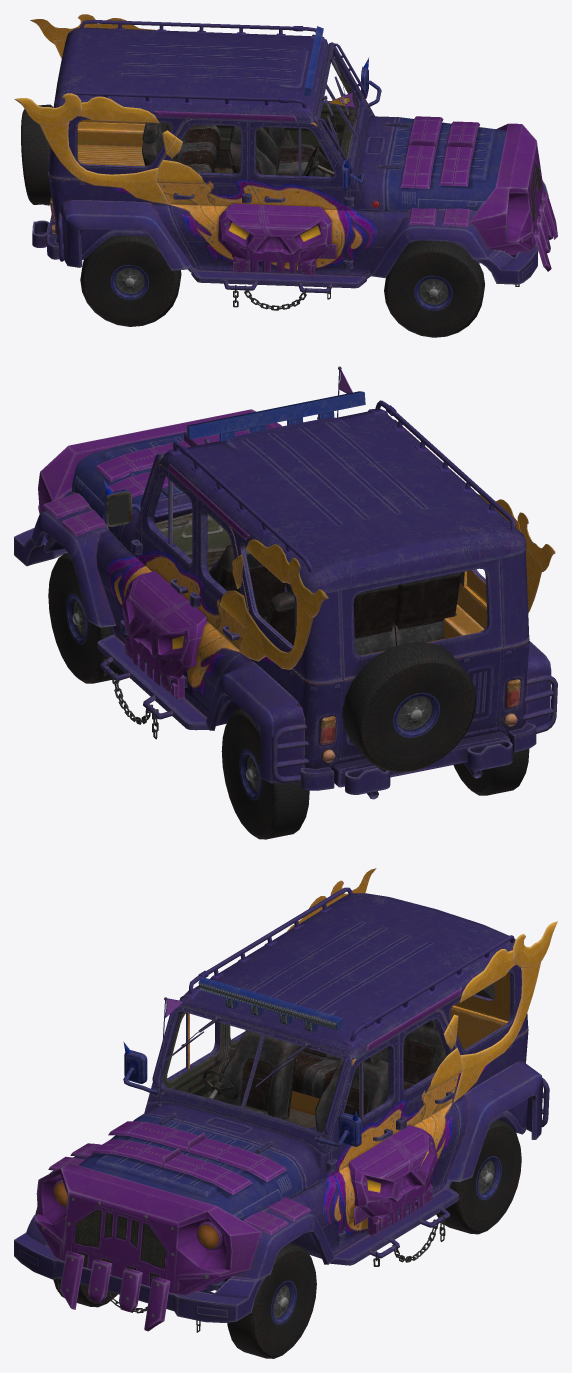
File: pubg_mobile_enchanted_pumbkin_lv3_uaz.glb
3 views of the same model, one above another, from view 1: azimuth 30°, elevation 25°; view 2: azimuth 150°, elevation 25°; view 3: azimuth 270°, elevation 25° (orthographic). The views are drawn at different scales.
Visible parts, largest first — view 1: Mesh_0056.rip, Mesh_0057.rip; view 2: Mesh_0056.rip, Mesh_0057.rip; view 3: Mesh_0057.rip, Mesh_0056.rip.
Boxes of the visible parts, <box> form: Mesh_0056.rip: <box>32,27,516,278</box>; Mesh_0057.rip: <box>14,14,557,337</box>; Mesh_0056.rip: <box>43,366,536,799</box>; Mesh_0057.rip: <box>14,369,557,839</box>; Mesh_0057.rip: <box>14,868,557,1358</box>; Mesh_0056.rip: <box>79,893,528,1294</box>.
Bounding box in the file's own units: 493 × 237 × 424.
2 materials, 2 textured.
